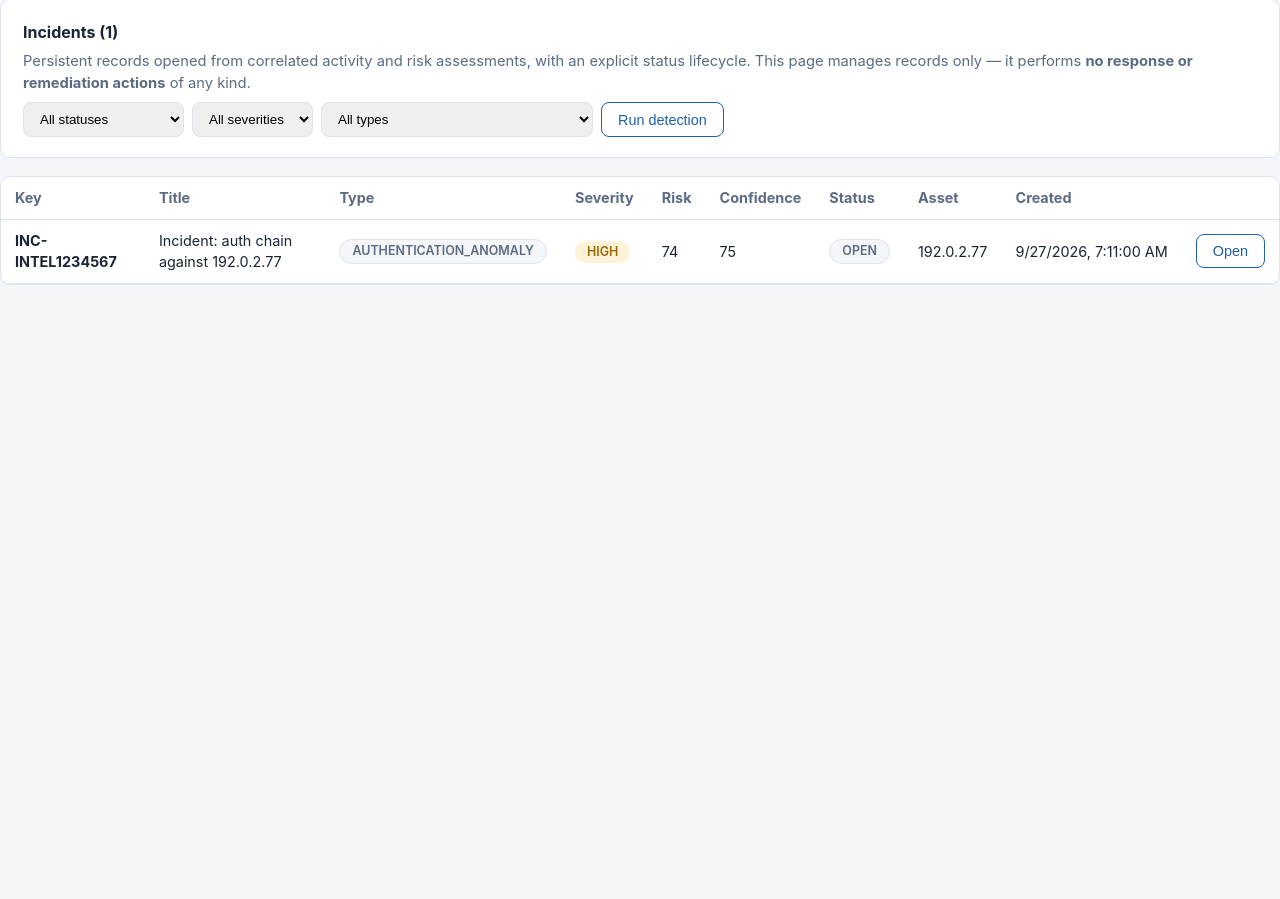
Scenario: Incident accountability activity (Phase 4, Step 45) › shows an honest empty state when nothing matches
Click the button "Open". click: point(1230, 251)
box: [1196,234,1265,268]
(page scrolled)
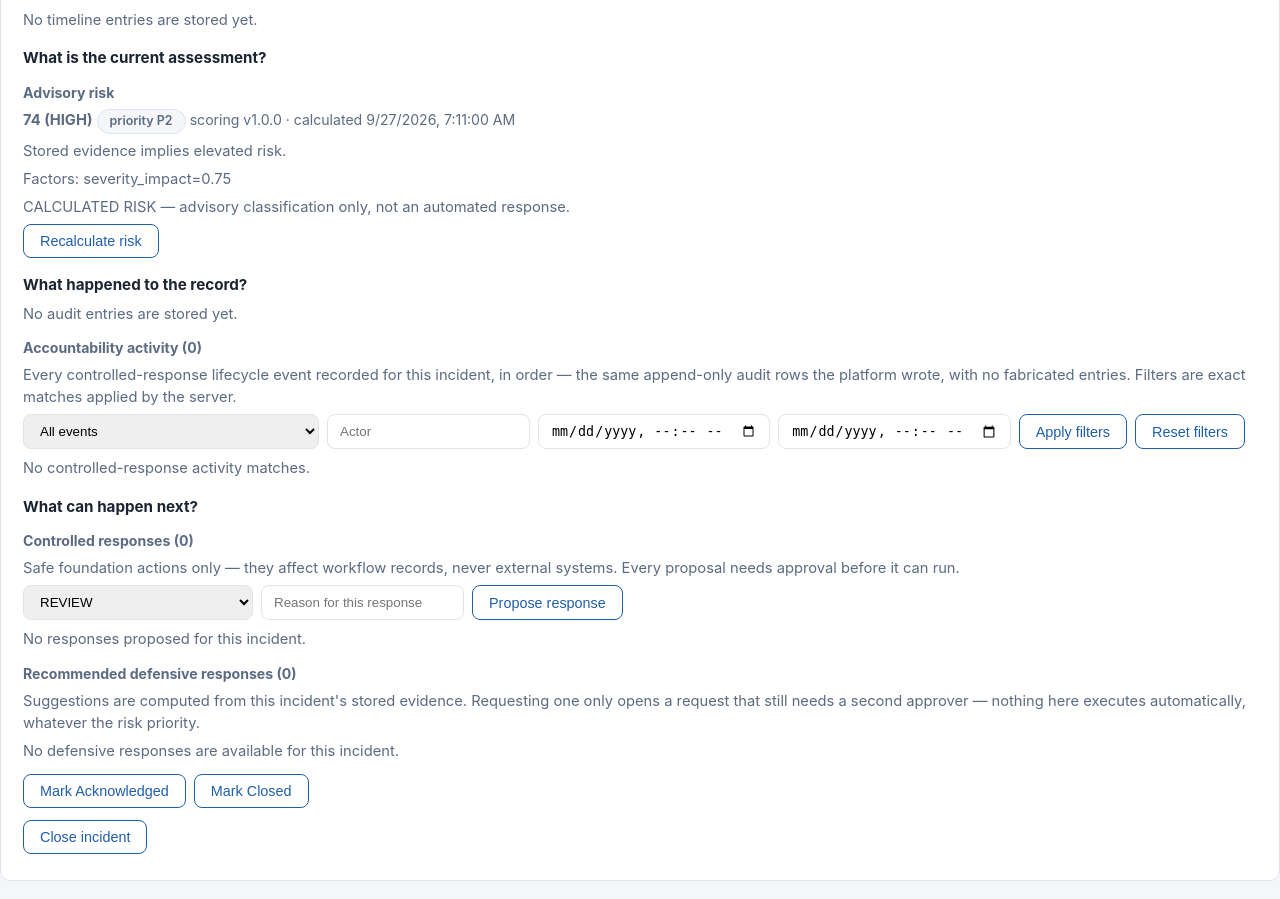
Expected: the heading "Accountability activity (0)" is shown, [23,339,202,356]
Expected: the text "No controlled-response activity matches." is shown, [23,459,310,477]
